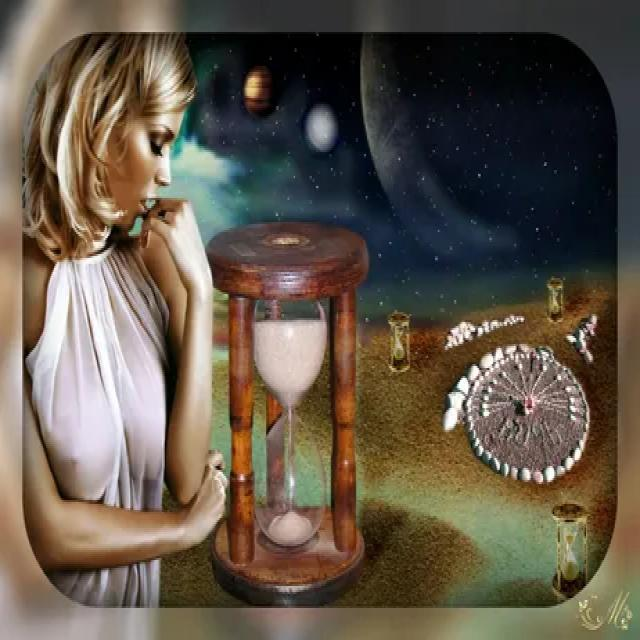clock: (212, 207, 365, 602)
